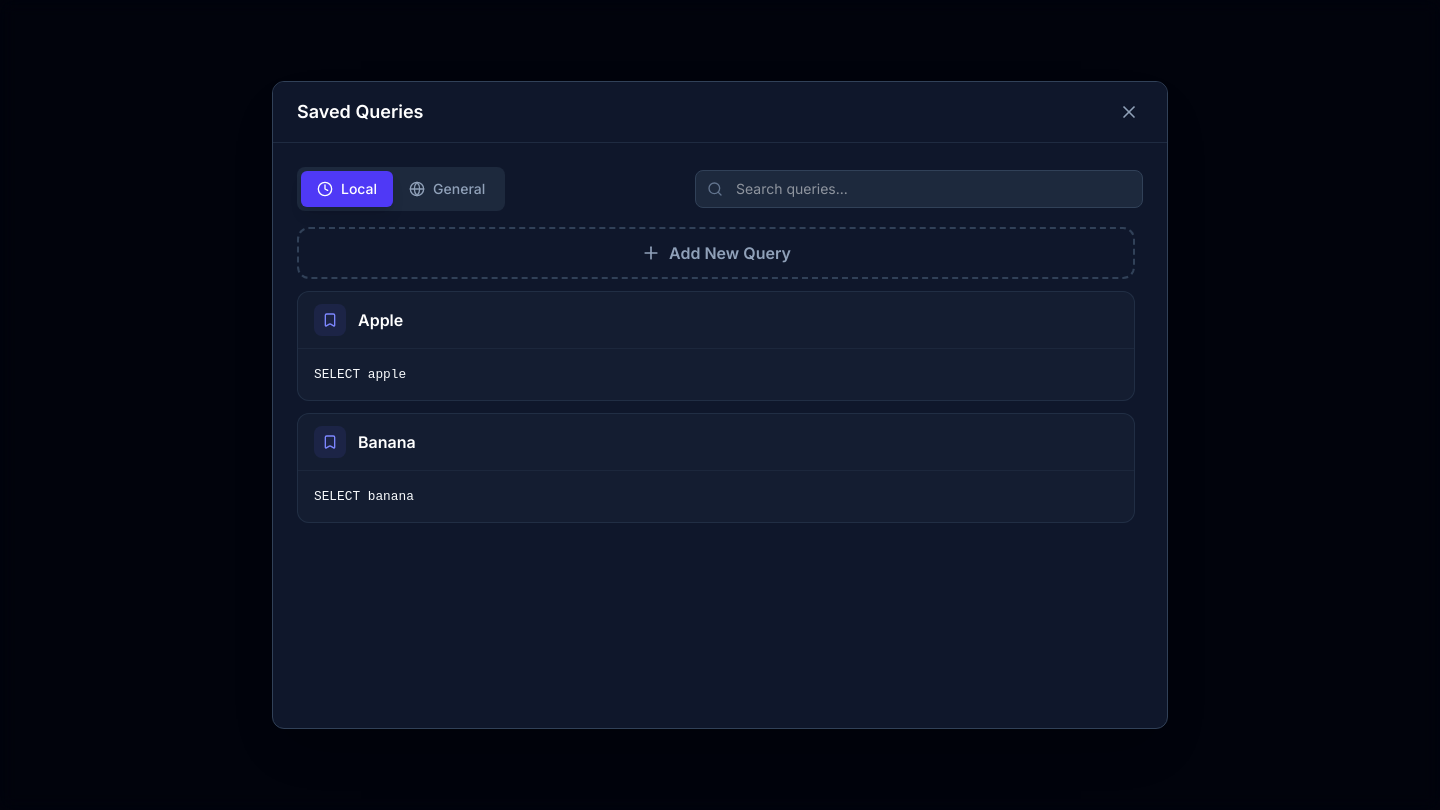
Scenario: SavedQueriesModal › filters queries by search term
Type "Apple" into the field with placeholder "Search queries..." at (919, 189), box top-left (695, 170), bottom-right (1143, 208)
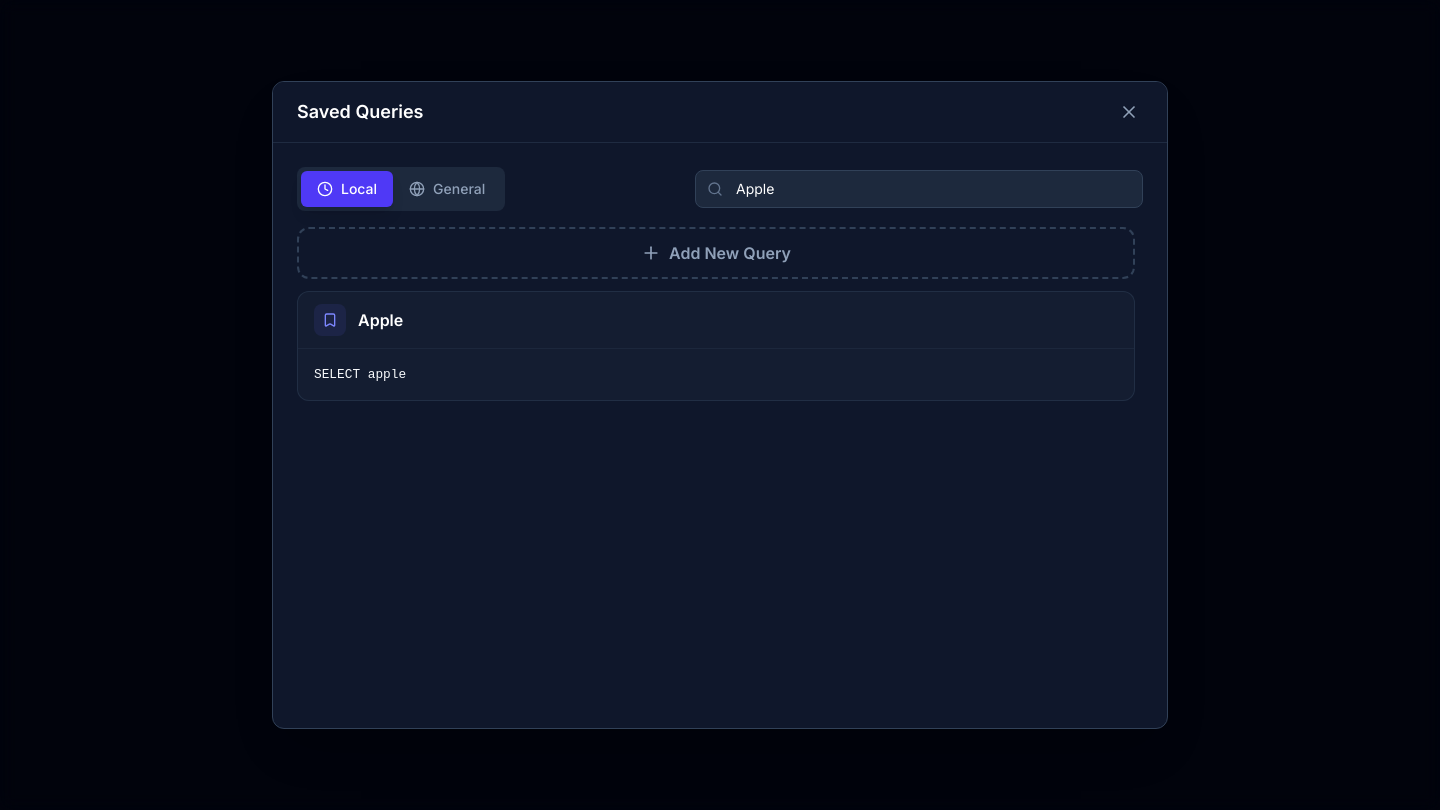
Expected: the heading "Apple" is shown, top-left (358, 308), bottom-right (403, 332)
Expected: the heading "Banana" is gone
